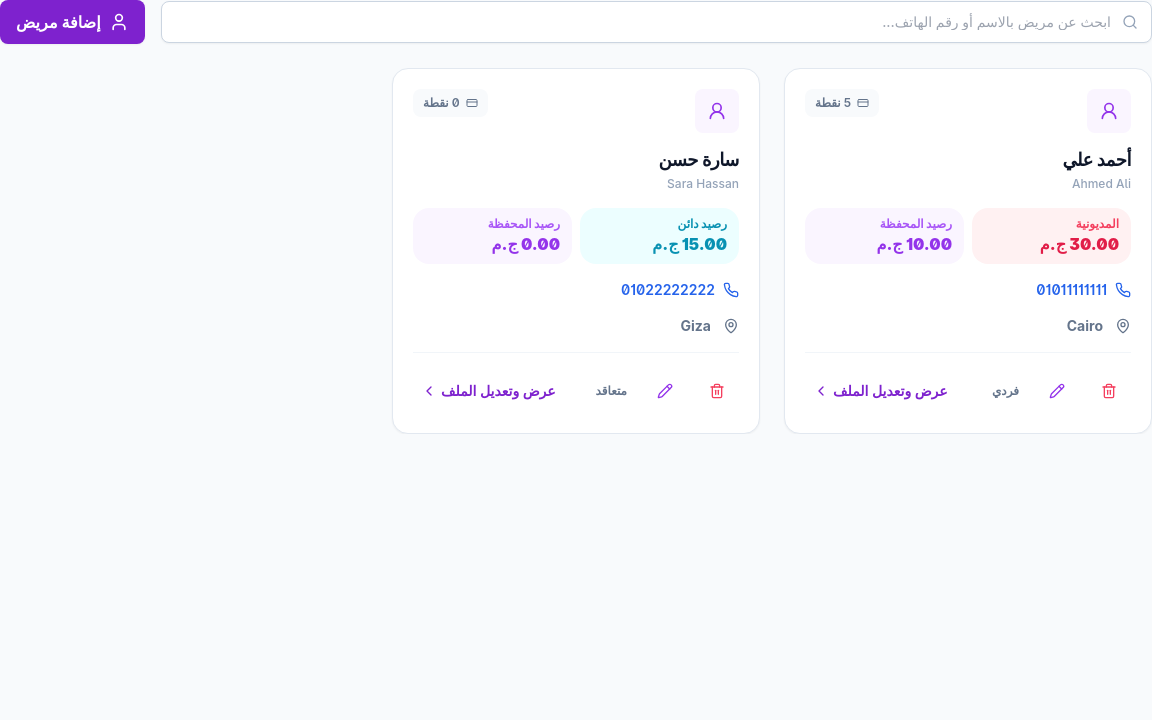
Test: does not misreport a completed patient delete as failed when the post-delete route refresh throws
Step 1. Click the button titled "حذف المريض" → (1109, 390), box x1=1087 y1=368 x2=1131 y2=412
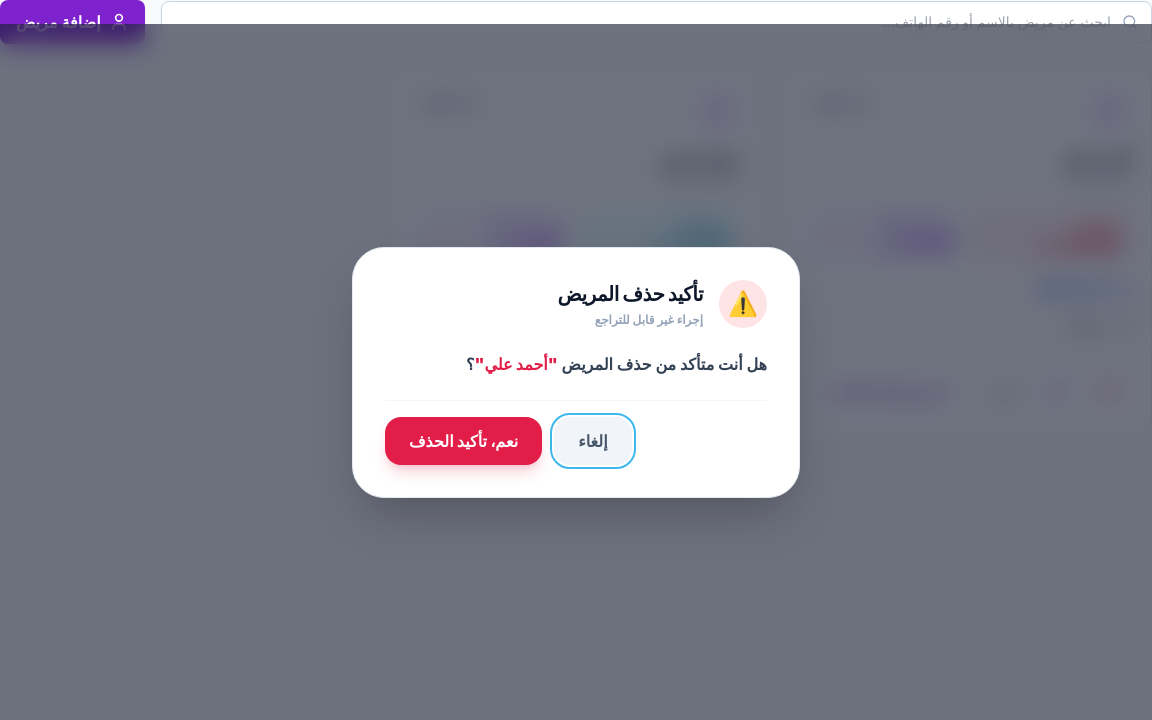
Step 2. Click the button "نعم، تأكيد الحذف" → (464, 440), box x1=385 y1=416 x2=542 y2=464
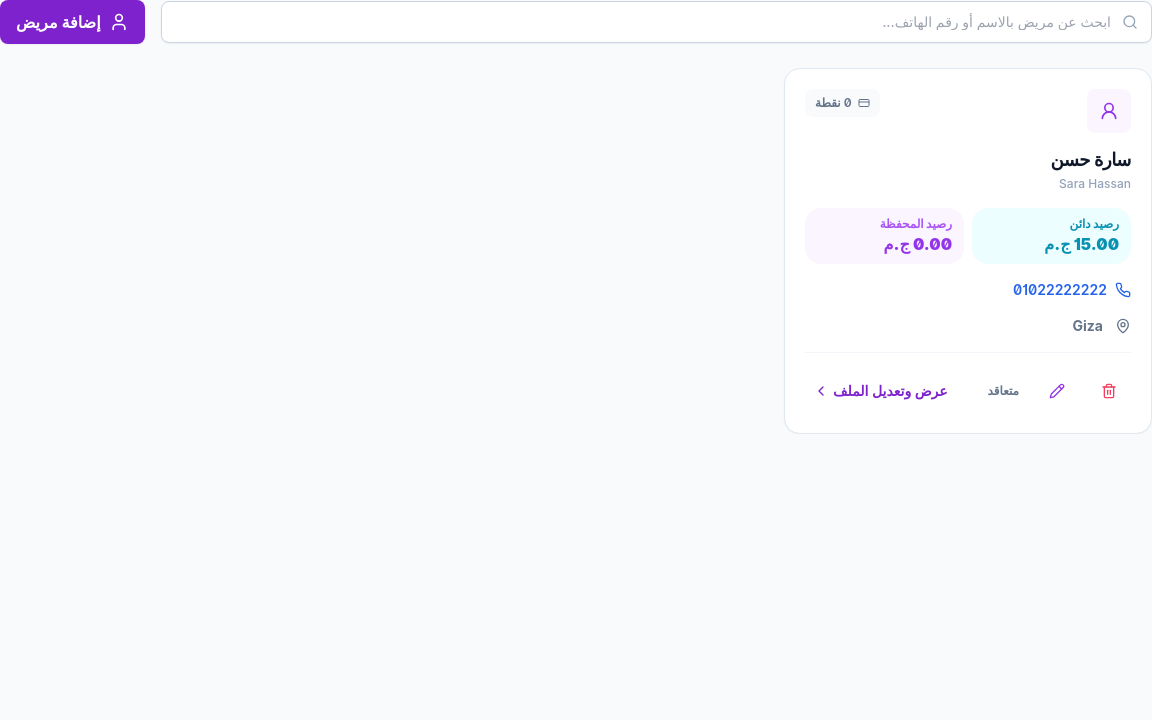
Now the heading "تأكيد حذف المريض" is gone
Now the heading "أحمد علي" is gone
